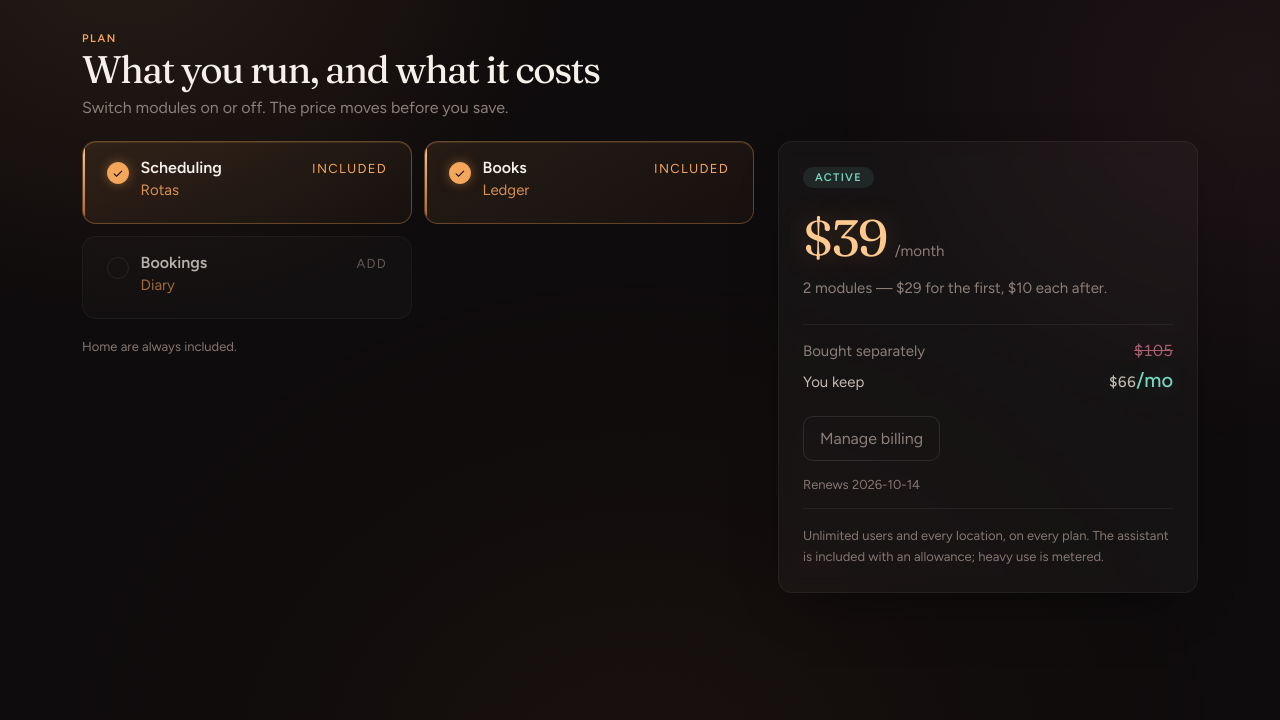
it: the price on the page › re-prices from the server as modules are toggled
Expected: the text "$39" is shown, [803,212,887,264]
Step 1. Click the button "Bookings add Diary" → click(174, 263), box [82,236,412,320]
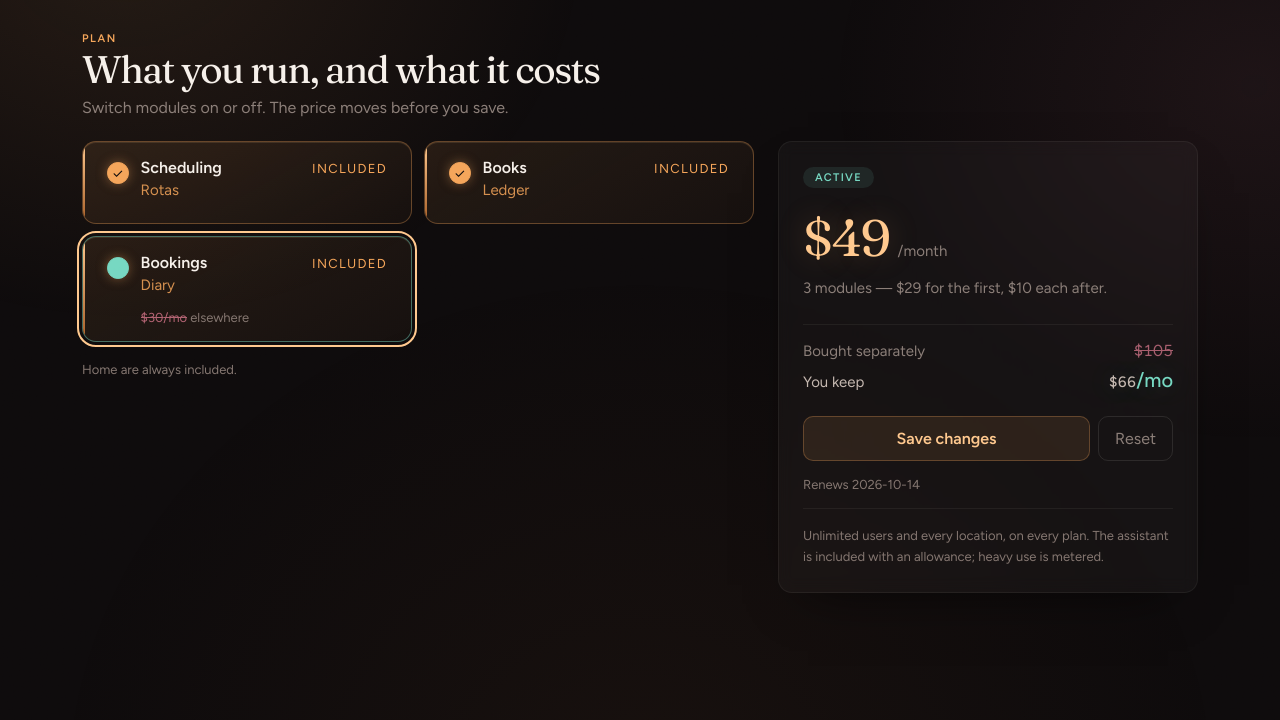
Expected: the text "$49" is shown, [803,212,890,264]
